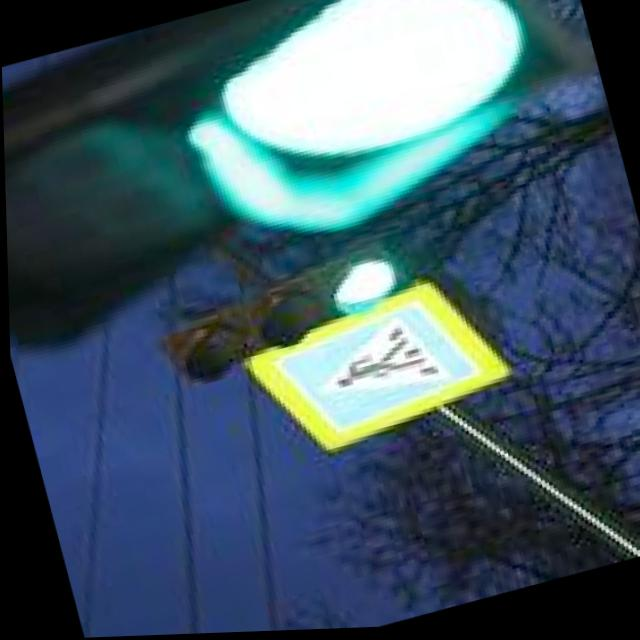green_light: (202, 0, 567, 259)
